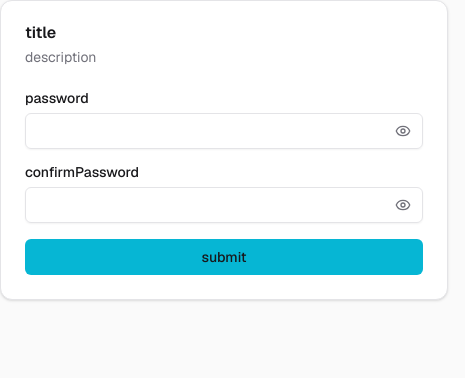
Test case: ResetPasswordForm › explains an invalid or expired link
The width and height of the screenshot is (465, 378).
Type "newPass123" into the password field labelled "password".
click(224, 131); type("newPass123")  # box [25,113,423,149]
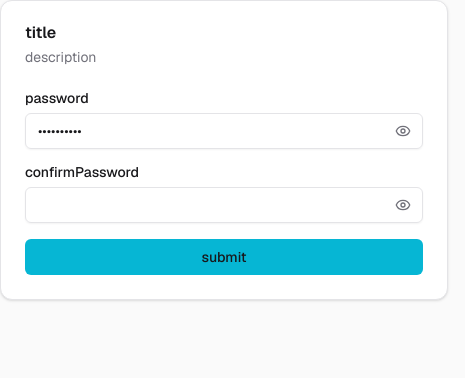
Type "newPass123" into the password field labelled "confirmPassword".
click(224, 205); type("newPass123")  # box [25,187,423,223]
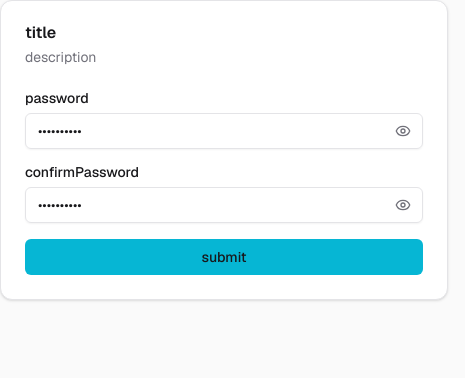
Click the button "submit".
click(224, 257)  # box [25,239,423,275]
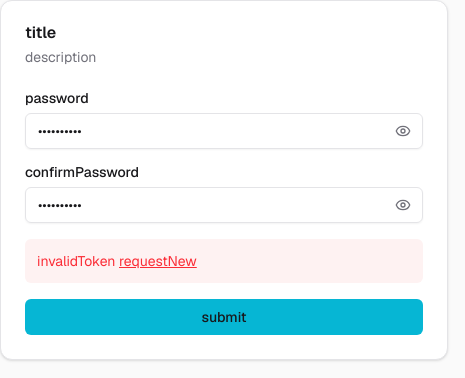
Check: the message shows "invalidToken", box [37,252,116,270]
